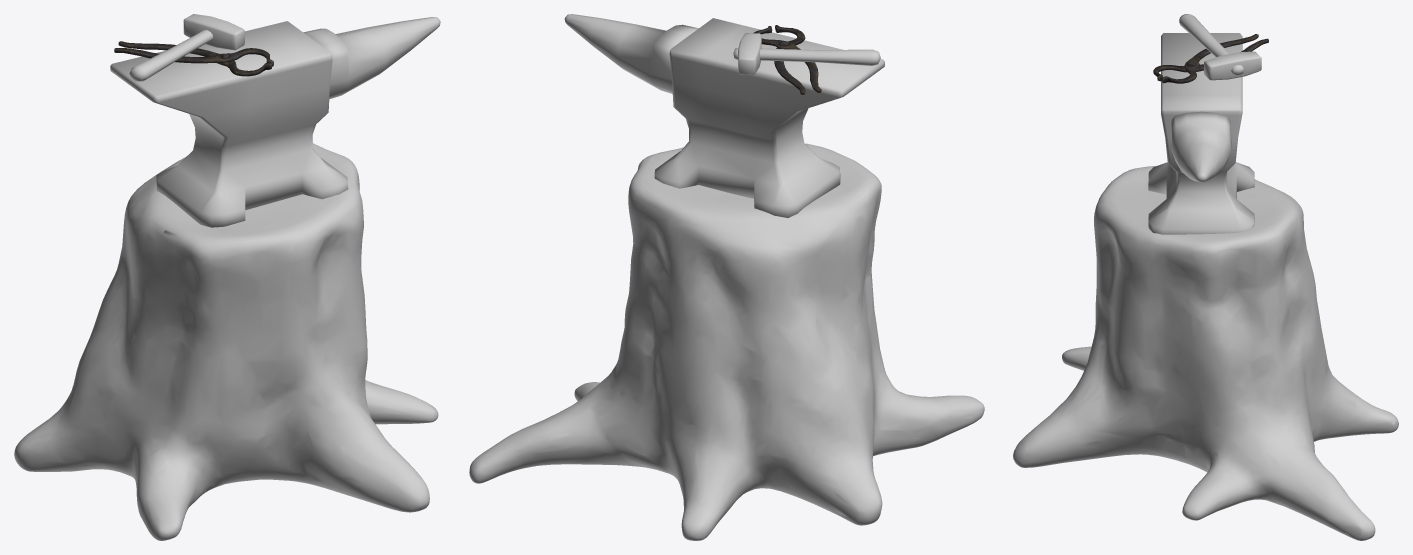
Rendered from blacksmith_table_exp6.FBX.
3 renders of one model, left to right at view 1: azimuth 30°, elevation 25°; view 2: azimuth 150°, elevation 25°; view 3: azimuth 270°, elevation 25°, orthographic. The views are drawn at different scales.
Visible parts, largest first — view 1: blacksmith_table_exp6; view 2: blacksmith_table_exp6; view 3: blacksmith_table_exp6.
Boxes of the visible parts, x1,y1,x2,y2 form: blacksmith_table_exp6: (14,14,440,540); blacksmith_table_exp6: (469,14,984,540); blacksmith_table_exp6: (1013,14,1398,540).
Bounding box in the file's own units: 98.44 × 110 × 97.96.
